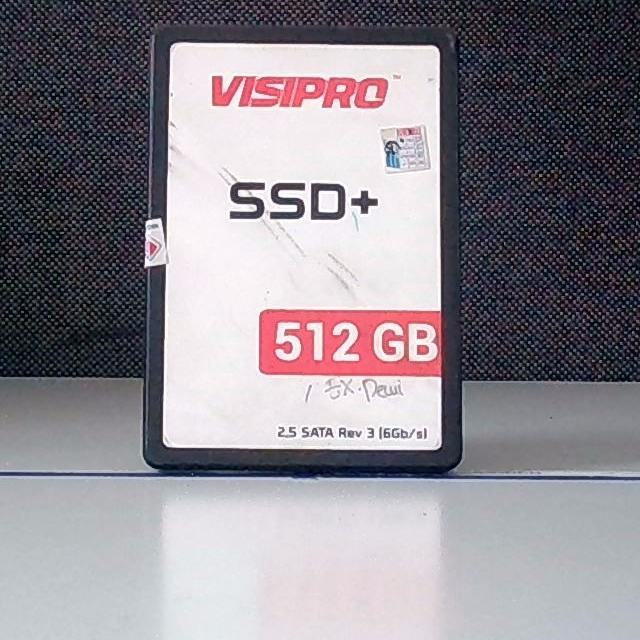ssd: (142, 27, 462, 478)
